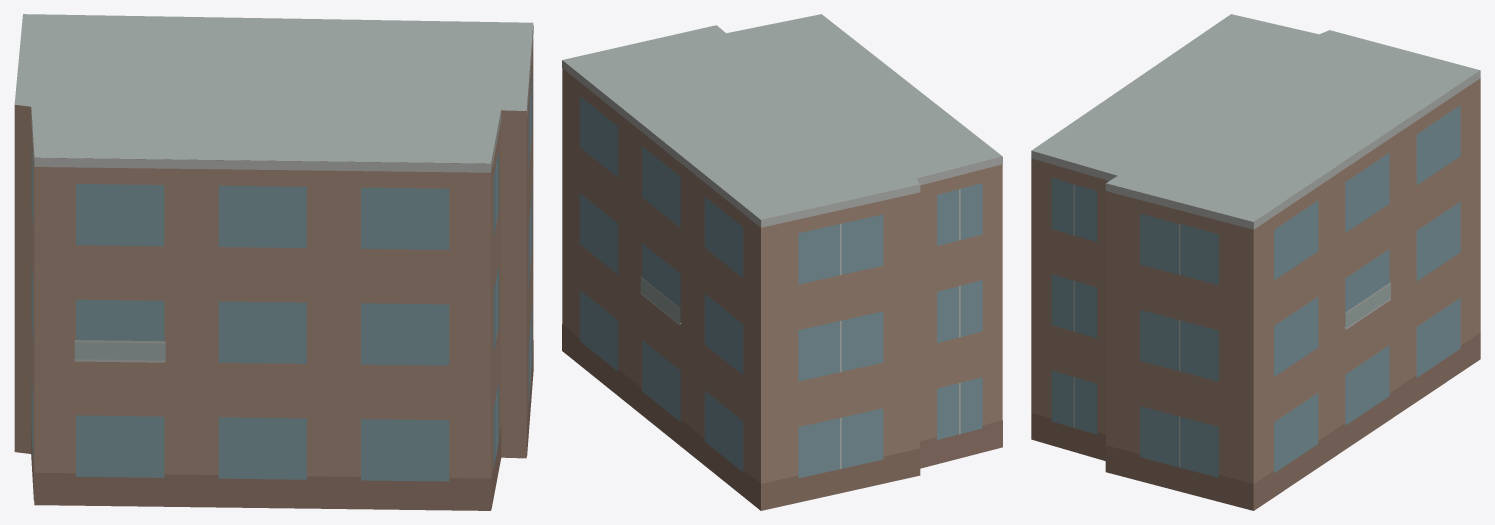
The model's file is survey-upis-32687670.glb.
3 views of the same model, side by side, from view 1: azimuth 30°, elevation 25°; view 2: azimuth 150°, elevation 25°; view 3: azimuth 270°, elevation 25° (orthographic). The views are drawn at different scales.
Parts seen in each view (by area): view 1: survey-upis-32687670.tmp; view 2: survey-upis-32687670.tmp; view 3: survey-upis-32687670.tmp.
Part boxes in pixels (<box>): survey-upis-32687670.tmp: <box>14,14,533,510</box>; survey-upis-32687670.tmp: <box>562,14,1002,510</box>; survey-upis-32687670.tmp: <box>1031,14,1480,510</box>.
Bounding box in the file's own units: 14.14 × 9.15 × 12.91.
